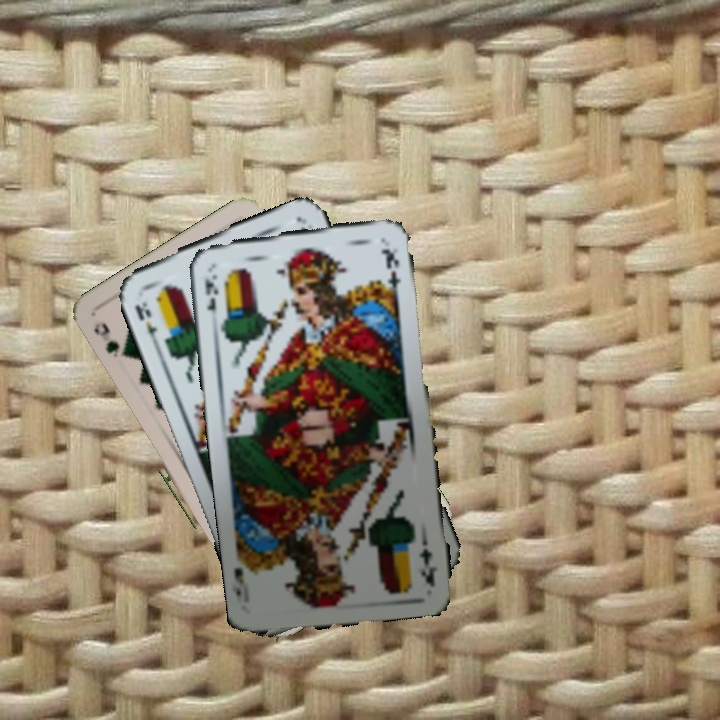EK: (416, 530, 440, 589), (131, 297, 160, 345), (200, 270, 221, 314)
G9: (90, 319, 129, 362)
